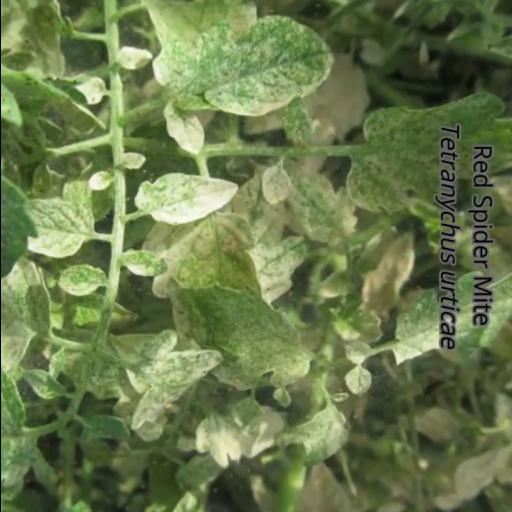Spider Mites: (152, 12, 335, 118), (176, 275, 312, 393), (134, 172, 240, 226), (24, 200, 92, 260)
